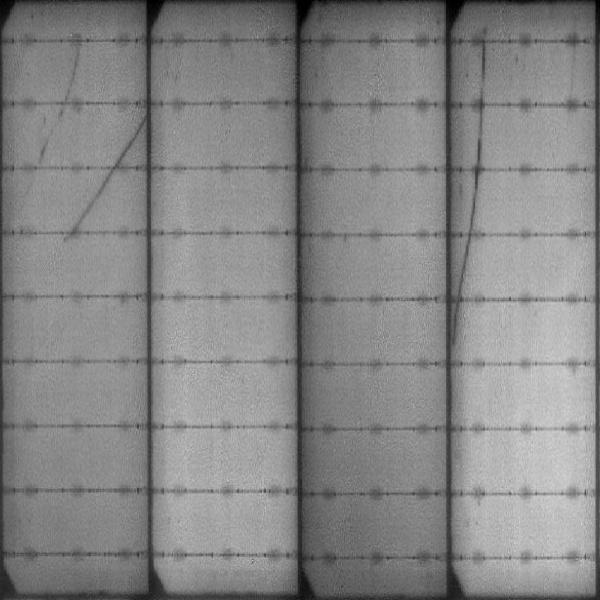scratch: (70, 172, 115, 226), (475, 40, 492, 165), (454, 237, 472, 344), (111, 112, 147, 165), (37, 111, 65, 167), (63, 37, 81, 103), (467, 172, 480, 232)
